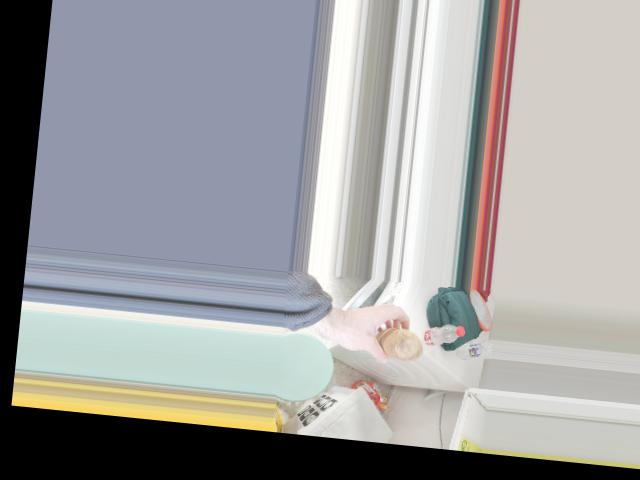sweet_potato: (369, 322, 427, 368)
